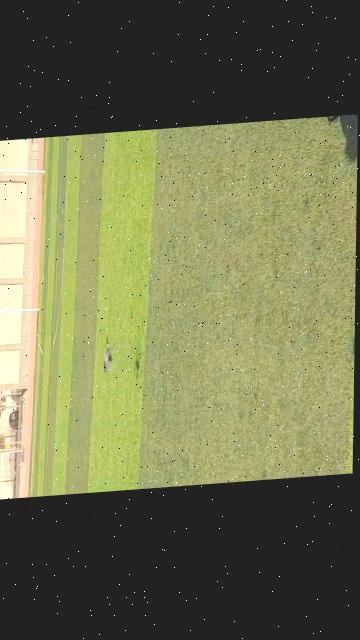drone: (100, 324, 118, 376)
